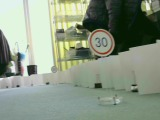speed_30: (88, 29, 115, 56)
